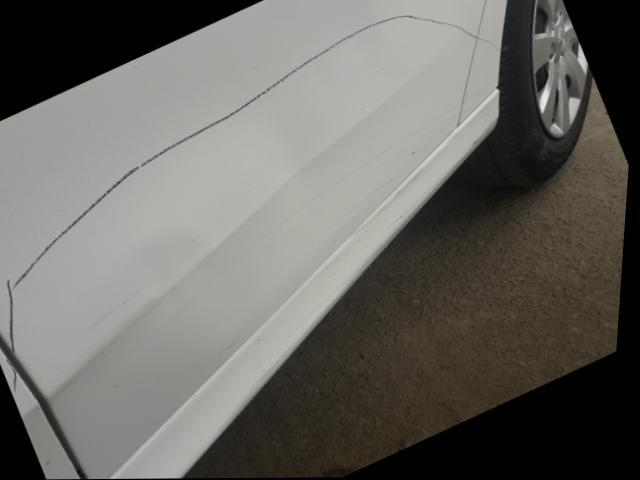dent: (142, 232, 221, 311), (276, 146, 325, 213)
scratch: (223, 340, 302, 436), (356, 247, 385, 279), (391, 204, 419, 230), (411, 146, 426, 160), (473, 138, 482, 146)
